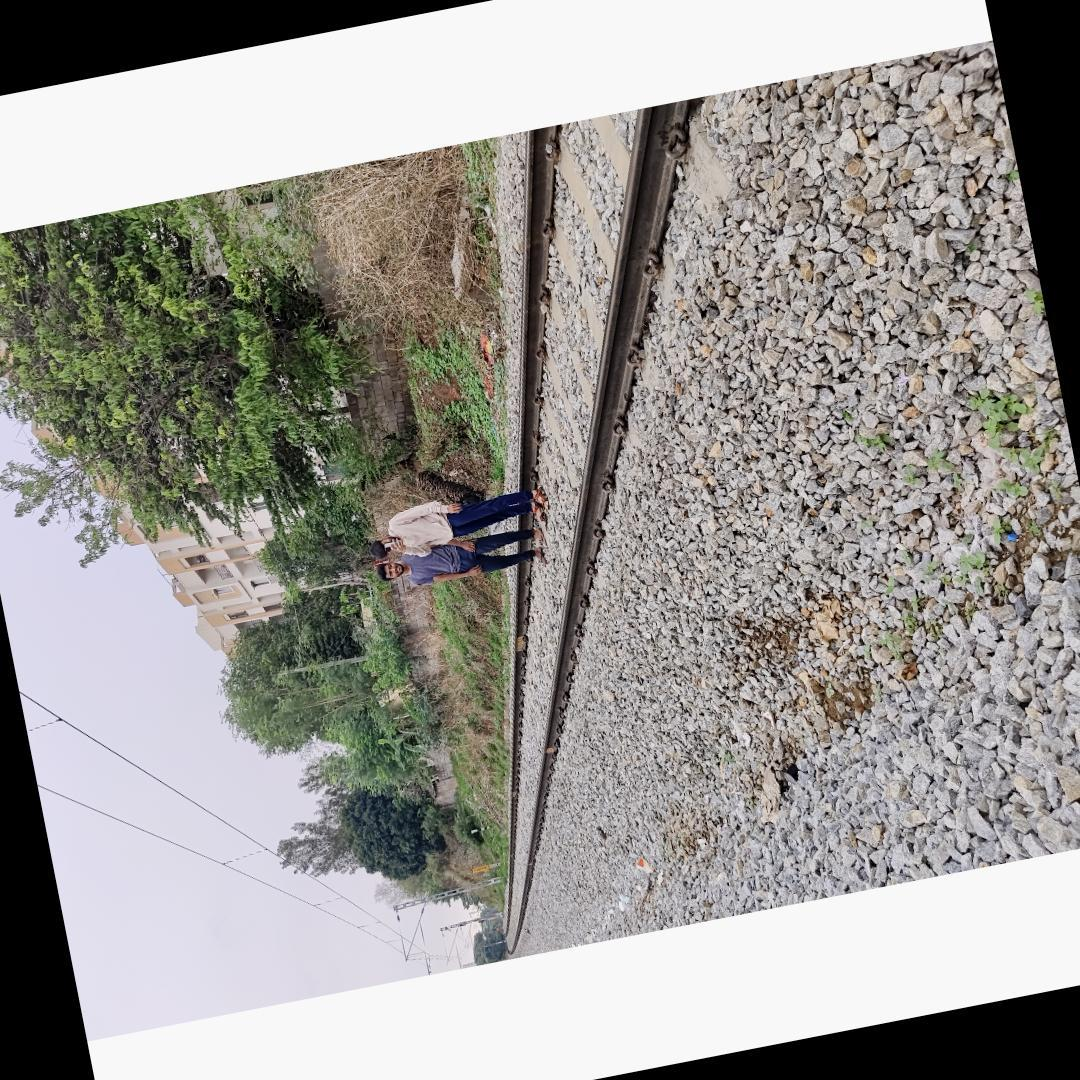standing: (362, 477, 552, 567), (372, 522, 549, 598)
track: (490, 83, 770, 956)
